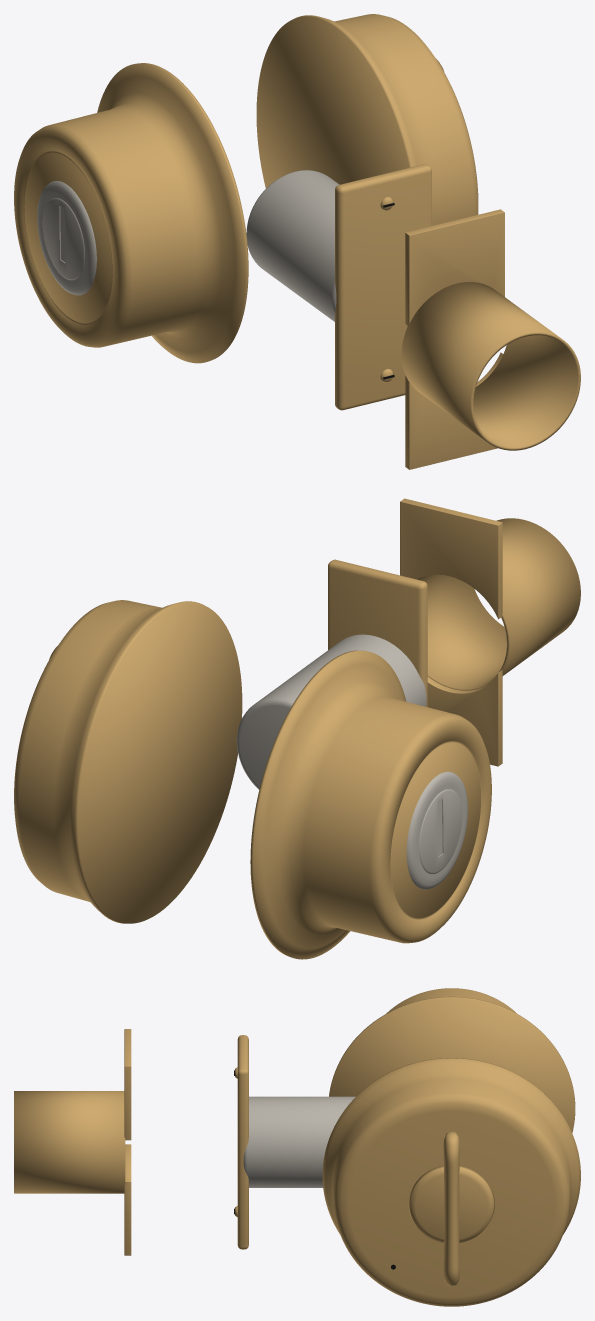
File: level_lock_pro.glb
The picture shows the model from 3 angles, top to bottom: view 1: azimuth 30°, elevation 25°; view 2: azimuth 150°, elevation 25°; view 3: azimuth 270°, elevation 25°; orthographic projection. The views are drawn at different scales.
Parts seen in each view (by area): view 1: ExtRoseBody, IntPuckBody, StrikePocket, FaceplatePlate, StrikePlate, BoltBody, KeyRing, KeyPlug; view 2: IntPuckBody, ExtRoseBody, StrikePocket, StrikePlate, FaceplatePlate, BoltBody, KeyRing, KeyPlug; view 3: IntPuckBody, ExtRoseBody, StrikePocket, BoltBody, ThumbturnBoss, ThumbturnFin, FaceplatePlate, StrikePlate.
Boxes of the visible parts, left/top/right/bottom form: ExtRoseBody: left=14, top=63, right=248, bottom=363; IntPuckBody: left=256, top=14, right=478, bottom=225; StrikePocket: left=401, top=282, right=580, bottom=450; FaceplatePlate: left=335, top=164, right=431, bottom=410; StrikePlate: left=405, top=209, right=504, bottom=469; BoltBody: left=246, top=170, right=339, bottom=321; KeyRing: left=37, top=181, right=96, bottom=295; KeyPlug: left=42, top=197, right=84, bottom=280; IntPuckBody: left=14, top=600, right=242, bottom=923; ExtRoseBody: left=250, top=650, right=491, bottom=959; StrikePocket: left=417, top=518, right=580, bottom=690; StrikePlate: left=400, top=498, right=502, bottom=766; FaceplatePlate: left=328, top=559, right=427, bottom=706; BoltBody: left=236, top=634, right=426, bottom=789; KeyRing: left=406, top=771, right=467, bottom=889; KeyPlug: left=419, top=789, right=462, bottom=873; IntPuckBody: left=322, top=1058, right=580, bottom=1306; ExtRoseBody: left=329, top=988, right=575, bottom=1132; StrikePocket: left=14, top=1091, right=125, bottom=1193; BoltBody: left=243, top=1096, right=355, bottom=1187; ThumbturnBoss: left=408, top=1165, right=494, bottom=1242; ThumbturnFin: left=443, top=1131, right=459, bottom=1286; FaceplatePlate: left=237, top=1035, right=248, bottom=1249; StrikePlate: left=124, top=1029, right=131, bottom=1255.
Size of the model in its own units: 2.56 by 1.86 by 4.08.
